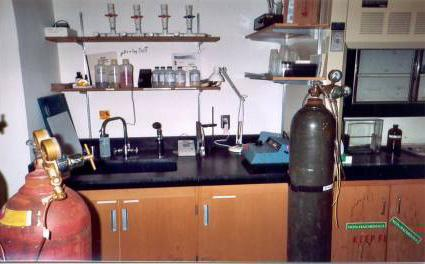Armario: (97, 183, 196, 262), (338, 180, 423, 262), (199, 183, 285, 260)
Lavamanos: (86, 116, 184, 177)
